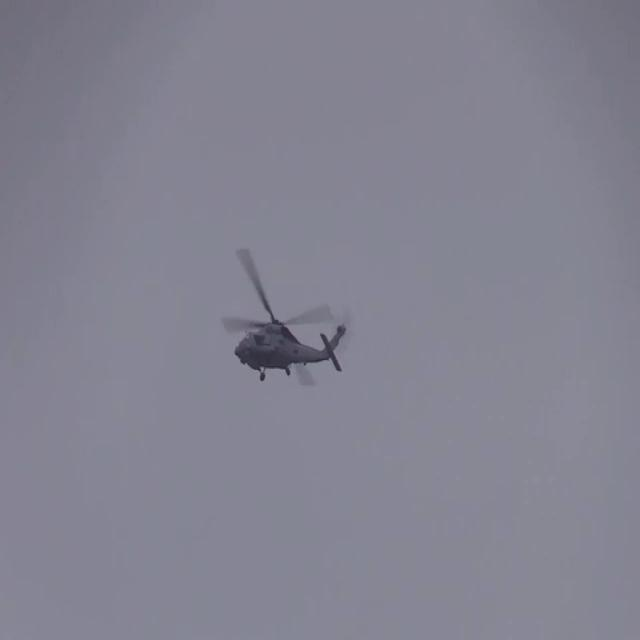Helicopter: (192, 235, 370, 398)
